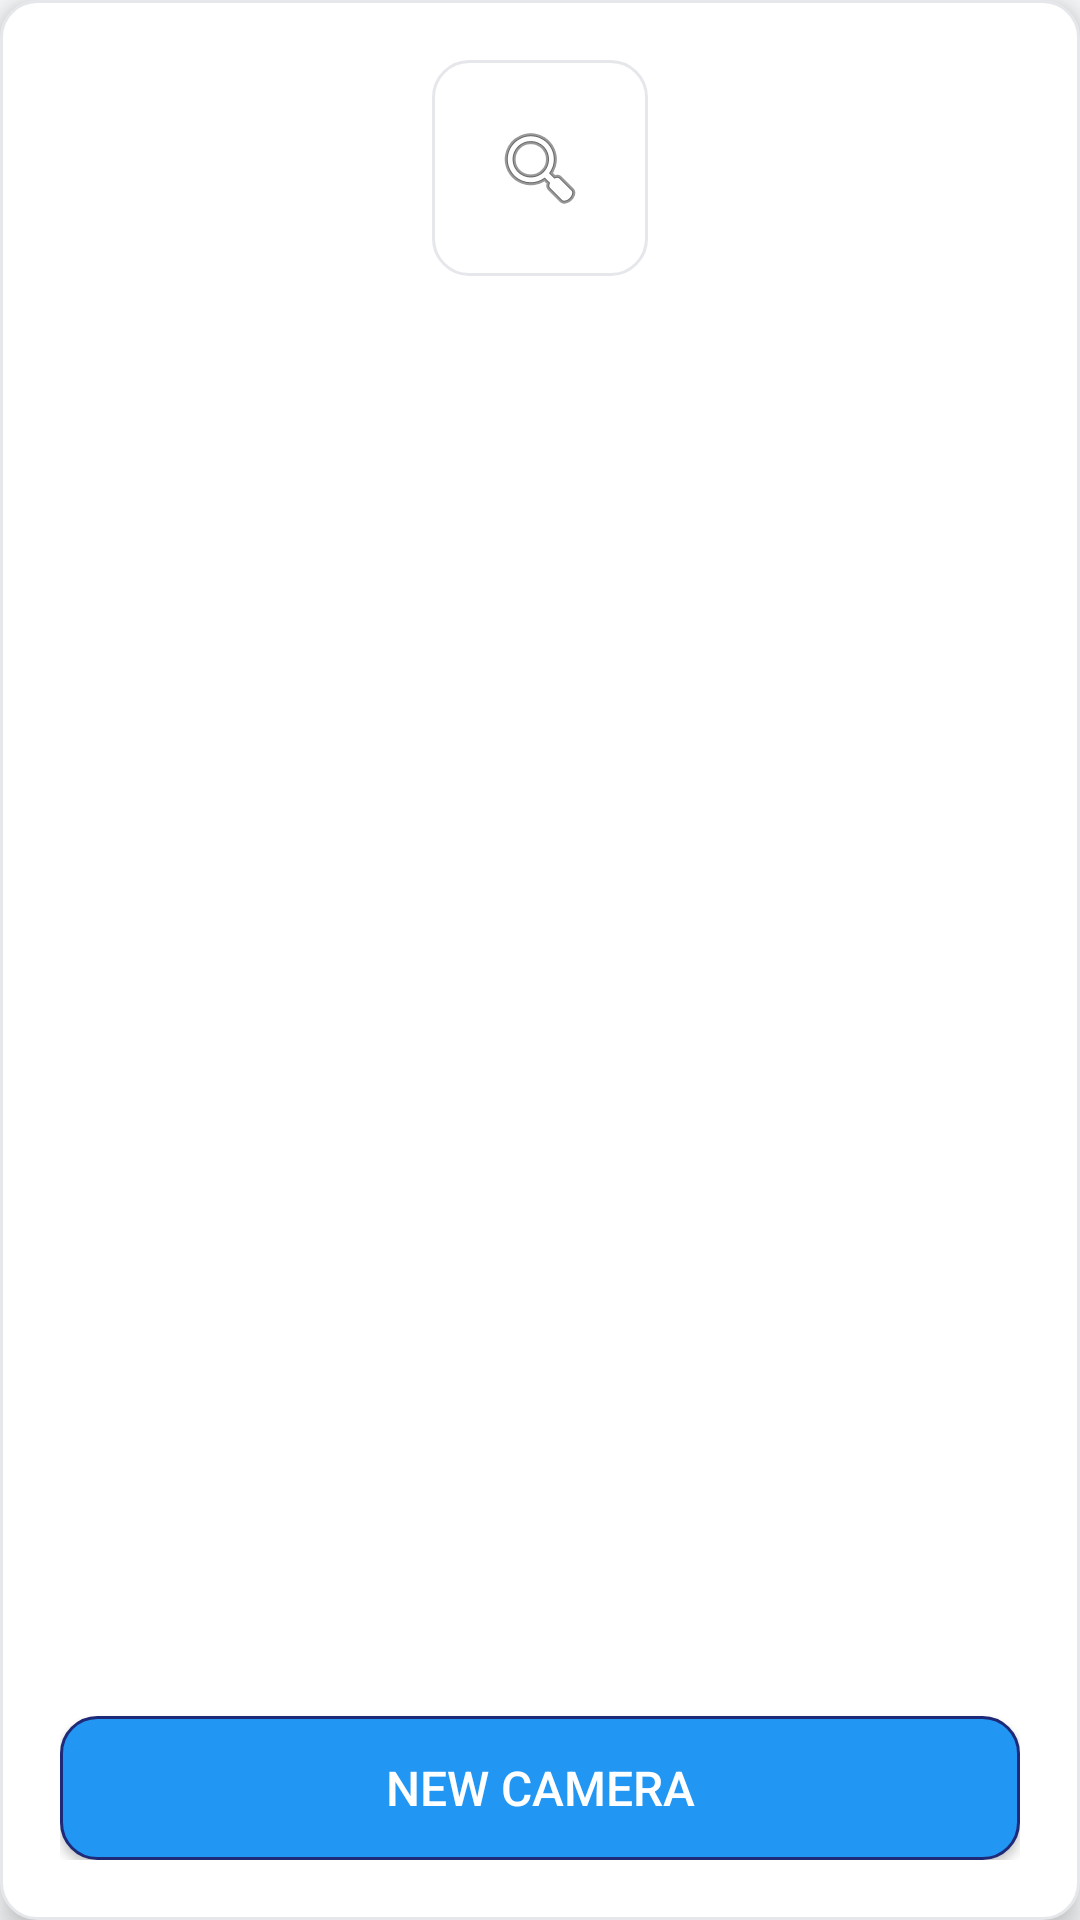

Point at icon controls on the screen. Image size 1080px×1920px, points as point (x, y).
Search: point (540, 168)
